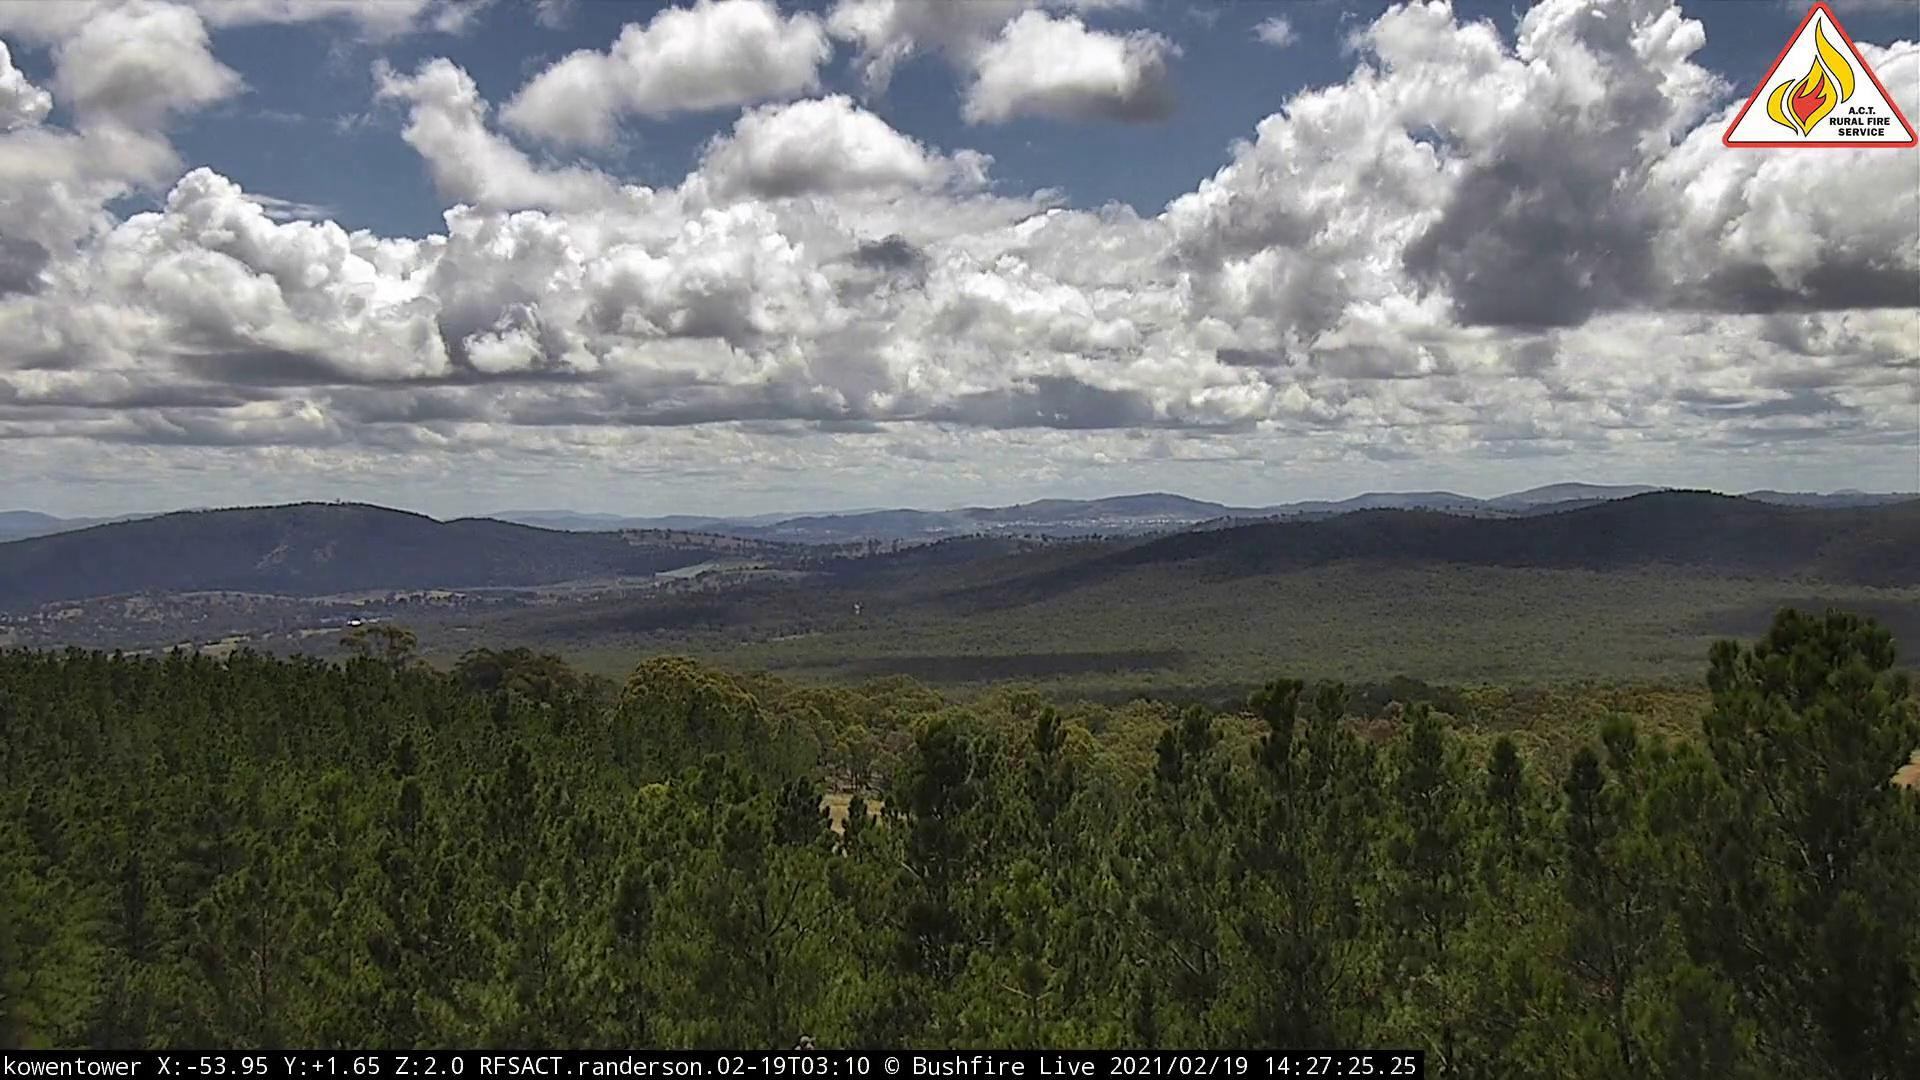instance_salient_object: (959, 512, 990, 549)
